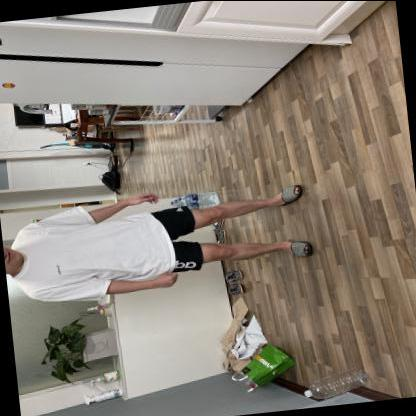no_safety-shoe: (274, 232, 323, 269), (267, 177, 313, 216)
